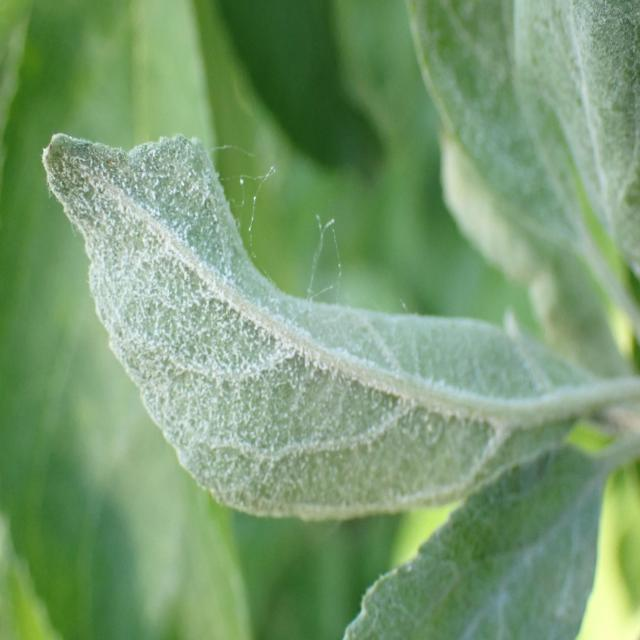Powdery_mildew: (49, 105, 640, 538), (376, 0, 640, 328), (527, 0, 640, 299)
